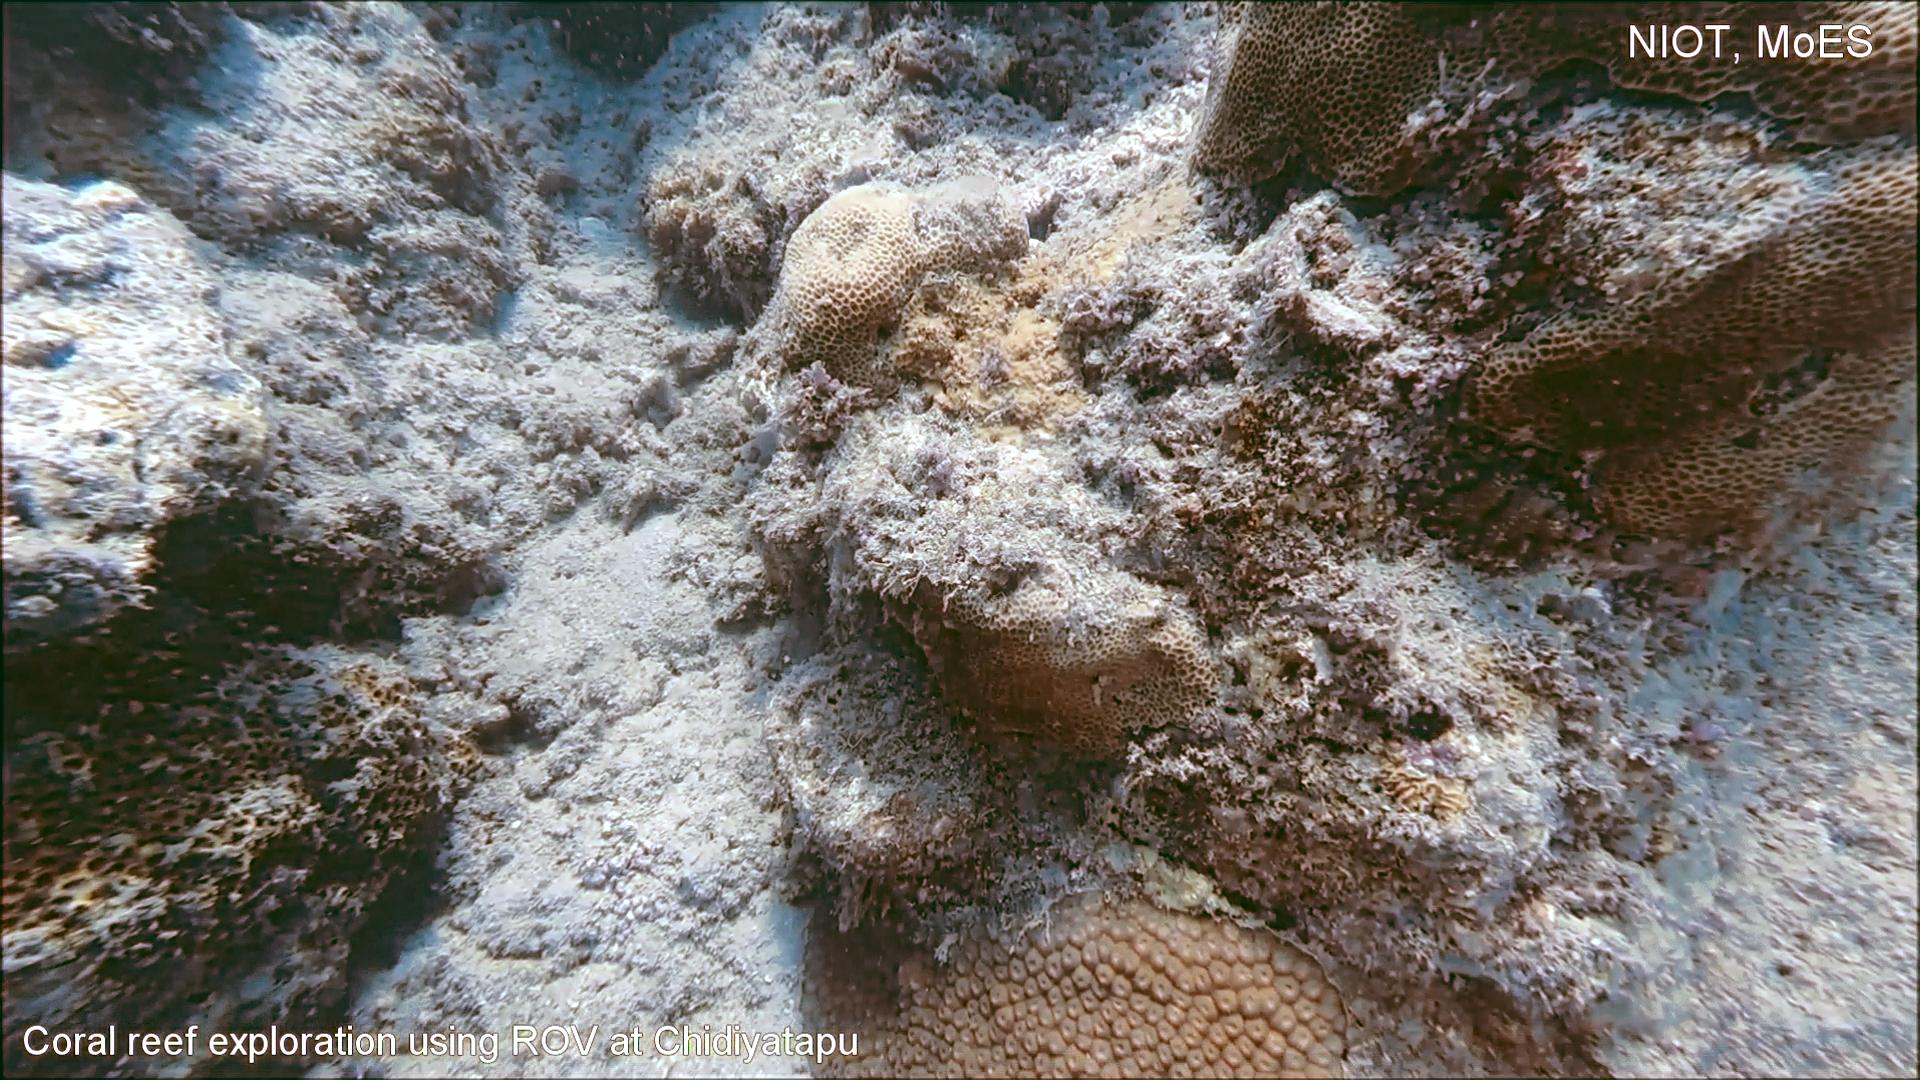Montastraea: (793, 860, 1362, 1080)
